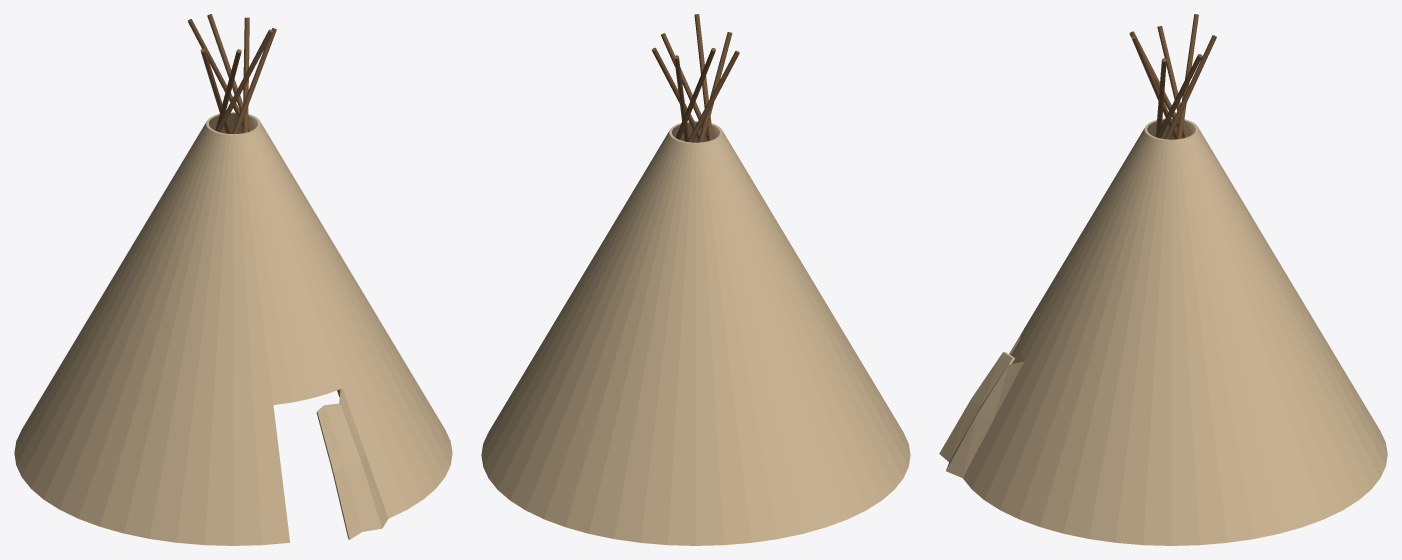
The model's file is NEW_RECOVERY_124_LOD0.glb.
3 renders of one model, left to right at view 1: azimuth 30°, elevation 25°; view 2: azimuth 150°, elevation 25°; view 3: azimuth 270°, elevation 25°, orthographic. The views are drawn at different scales.
Visible parts, largest first — view 1: Finite_canvas_shell_and_attached_folded_flap, Pole_04, Pole_05, Pole_06, Pole_00; view 2: Finite_canvas_shell_and_attached_folded_flap, Pole_04, Pole_02, Pole_03, Pole_01; view 3: Finite_canvas_shell_and_attached_folded_flap, Pole_00, Pole_01.
Boxes of the visible parts, x1,y1,x2,y2 form: Finite_canvas_shell_and_attached_folded_flap: (14,112,452,545); Pole_04: (215,29,272,132); Pole_05: (232,28,276,133); Pole_06: (242,17,249,133); Pole_00: (207,14,340,396); Finite_canvas_shell_and_attached_folded_flap: (481,121,910,545); Pole_04: (694,14,713,140); Pole_02: (687,50,739,142); Pole_03: (698,32,732,142); Pole_01: (675,48,715,139); Finite_canvas_shell_and_attached_folded_flap: (939,118,1387,545); Pole_00: (1164,35,1216,139); Pole_01: (1176,14,1198,139).
Size of the model in its own units: 4 by 4.36 by 4.15.
